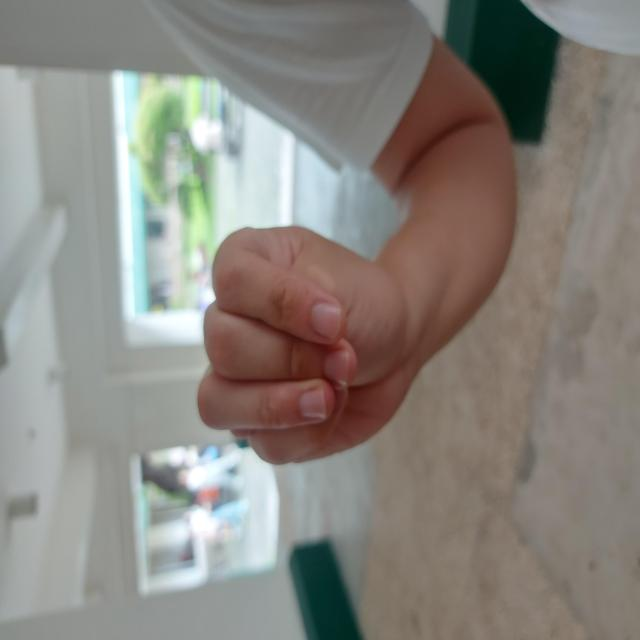M: (172, 195, 417, 406)
